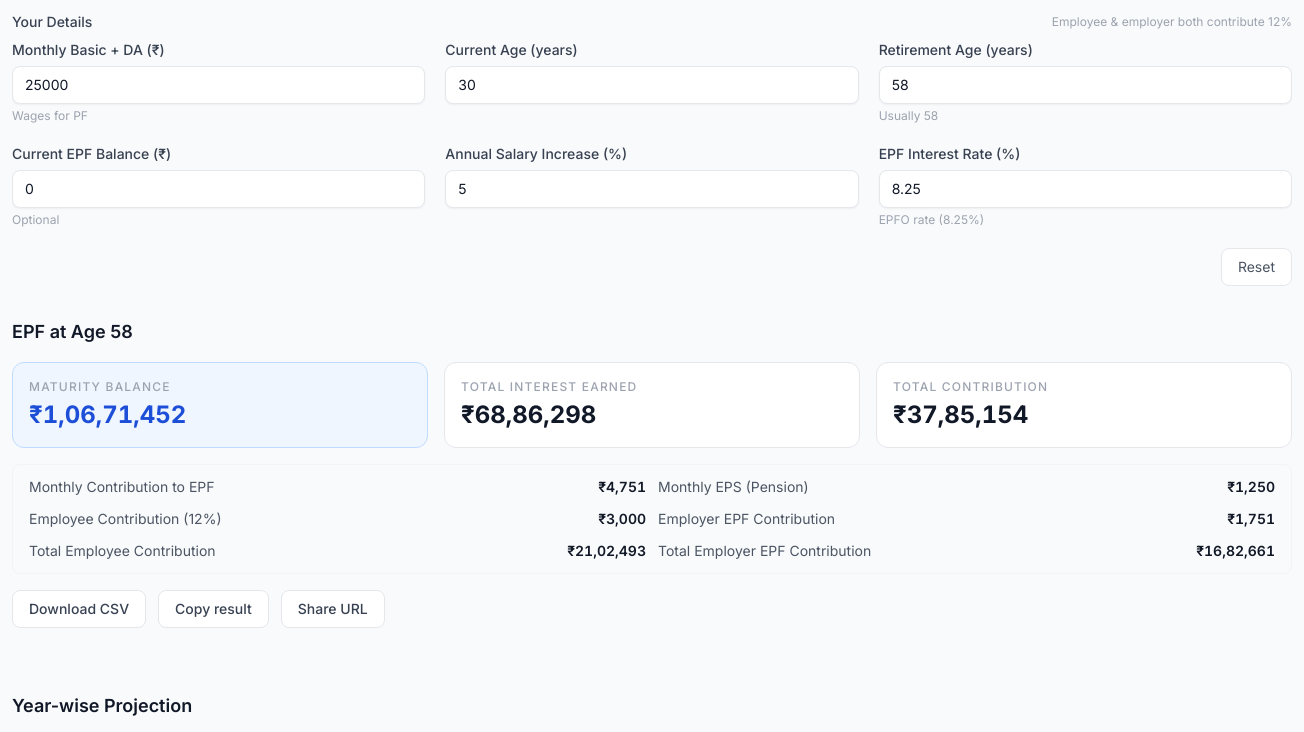
Test: EPFCalculator › shows error and hides results when wages are zero
Replace the text in the number field labelled "Monthly Basic + DA (₹)" with "0" at (219, 85), box [12, 66, 425, 104]
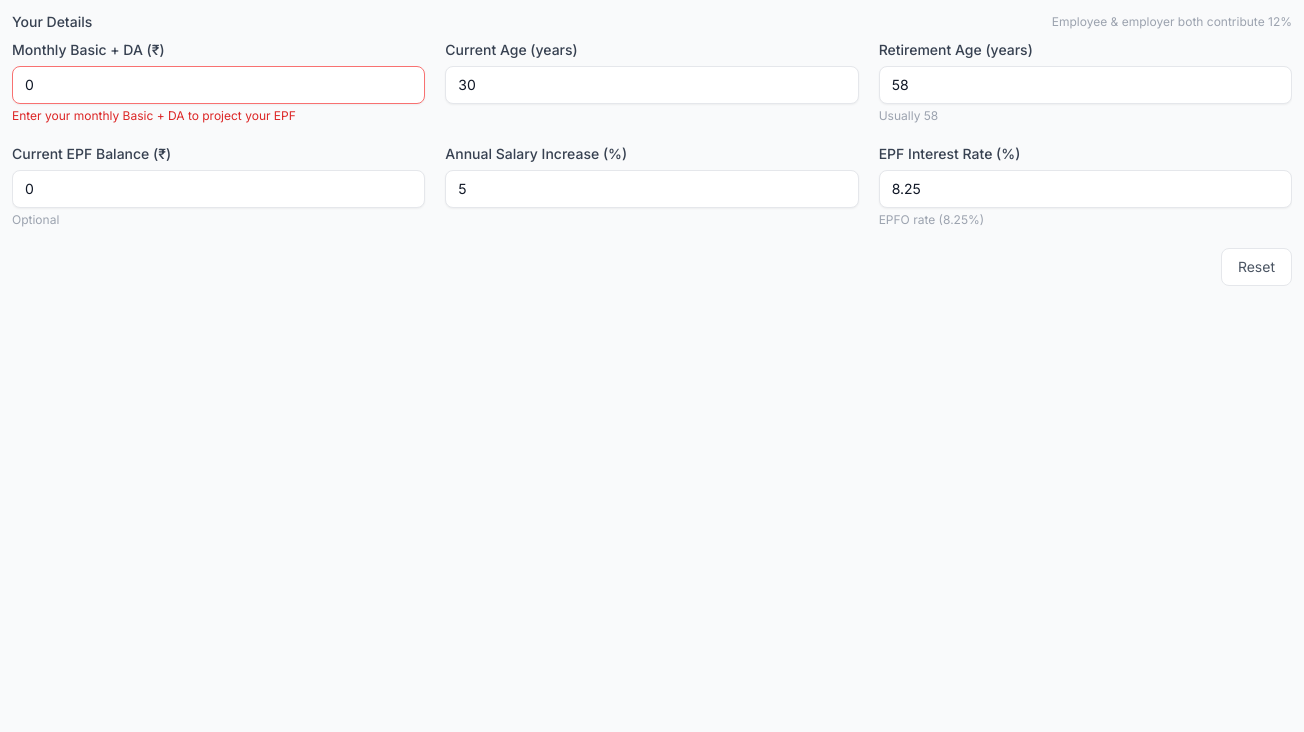
Result: the text "Enter your monthly Basic + DA to project your EPF" is shown at [12, 108, 296, 123]
Result: the heading "EPF at Age" is gone
